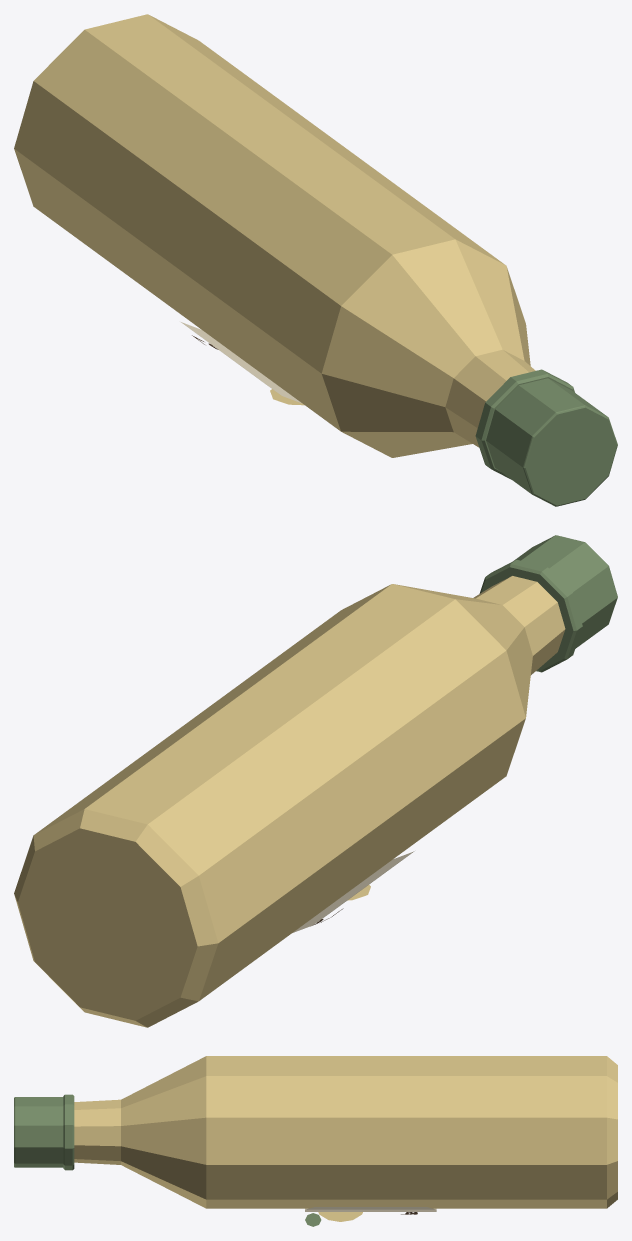
The model's file is lemonade.glb.
3 renders of one model, top to bottom at view 1: azimuth 30°, elevation 25°; view 2: azimuth 150°, elevation 25°; view 3: azimuth 270°, elevation 25°, orthographic. The views are drawn at different scales.
Visible parts, largest first — view 1: lemonade; view 2: lemonade; view 3: lemonade.
Part boxes in pixels (<box>): lemonade: <box>14,14,617,506</box>; lemonade: <box>14,535,617,1027</box>; lemonade: <box>14,1056,617,1226</box>.
Bounding box in the file's own units: 0.056 × 0.0576 × 0.22.
